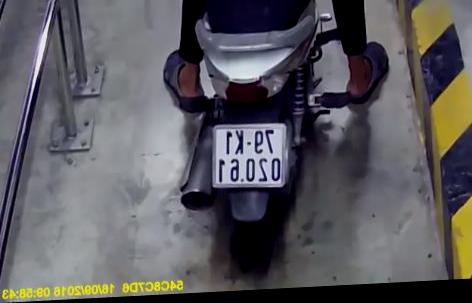License_Plate: (200, 118, 292, 195)
